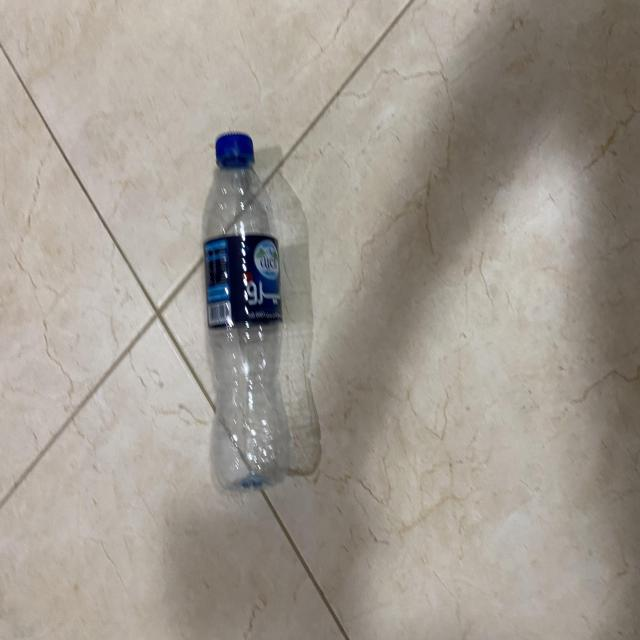plastic: (199, 126, 290, 493)
